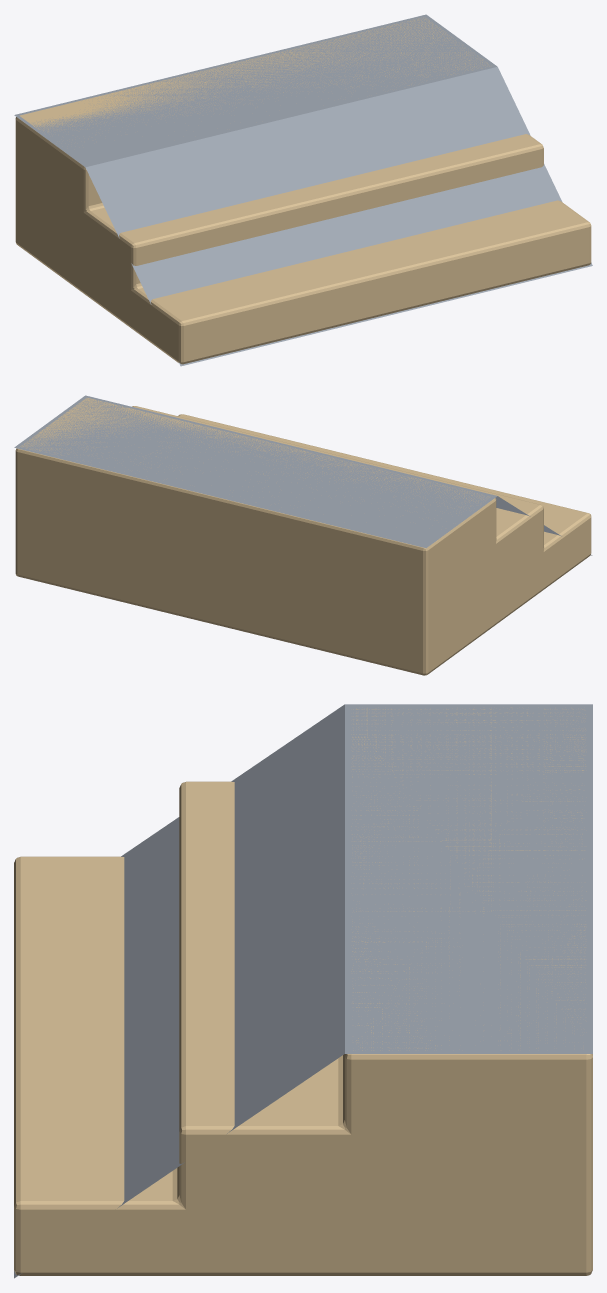
Rendered from degraus_entrada_h45.glb.
The picture shows the model from 3 angles, top to bottom: view 1: azimuth 30°, elevation 25°; view 2: azimuth 150°, elevation 25°; view 3: azimuth 270°, elevation 25°; orthographic projection. The views are drawn at different scales.
Parts seen in each view (by area): view 1: colisao_malha, degraus_entrada_h45; view 2: degraus_entrada_h45, colisao_malha; view 3: degraus_entrada_h45, colisao_malha.
Part boxes in pixels (x1,y1,x2,y2): colisao_malha: [14, 14, 592, 366]; degraus_entrada_h45: [15, 17, 591, 364]; degraus_entrada_h45: [15, 398, 591, 675]; colisao_malha: [14, 395, 592, 555]; degraus_entrada_h45: [14, 707, 592, 1275]; colisao_malha: [14, 704, 592, 1278].
Size of the model in its own units: 1.5 by 0.45 by 1.05.
1 material, 1 textured.
